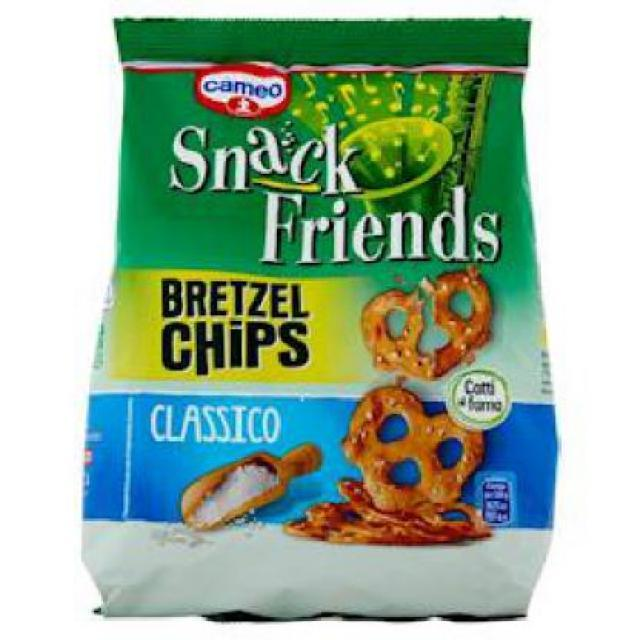Salatini: (77, 12, 565, 630)
